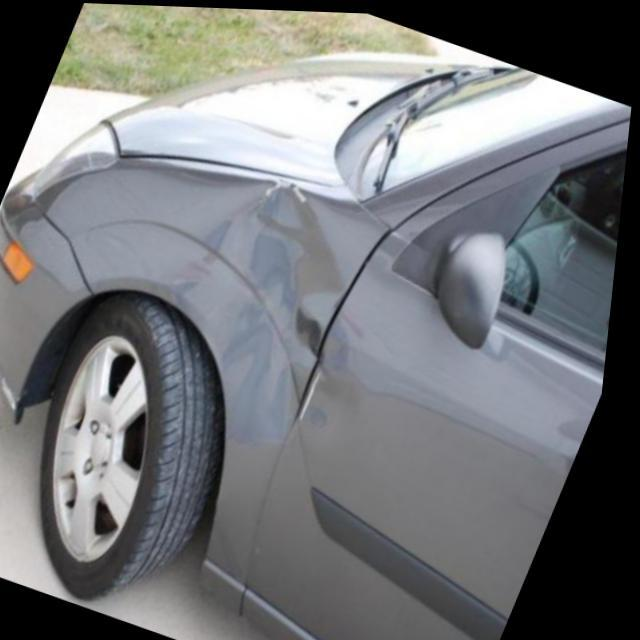dent: (164, 177, 351, 445)
